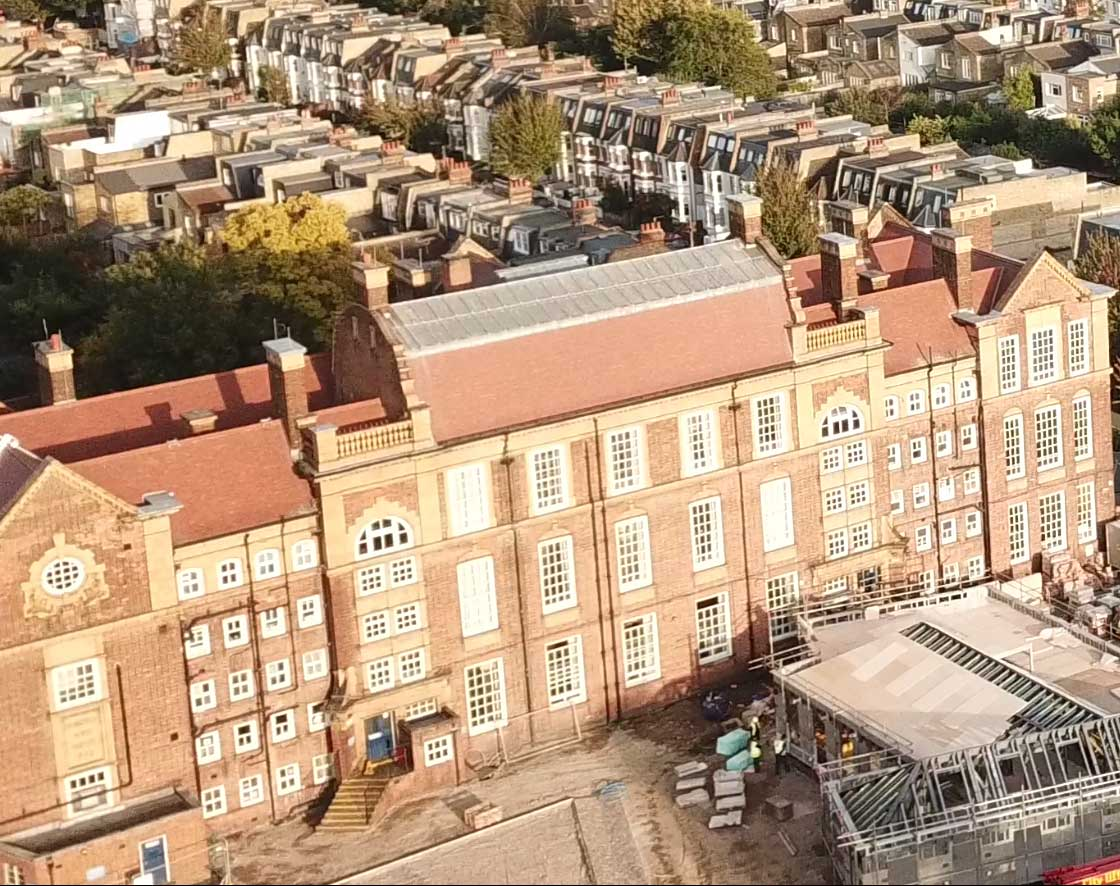building: (3, 262, 1120, 775)
